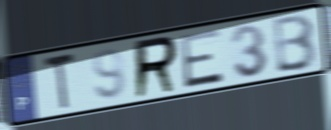3: (228, 21, 270, 80)
9: (90, 47, 128, 103)
B: (272, 11, 320, 76)
E: (178, 27, 226, 91)
R: (133, 33, 180, 102)
T: (42, 50, 78, 114)
